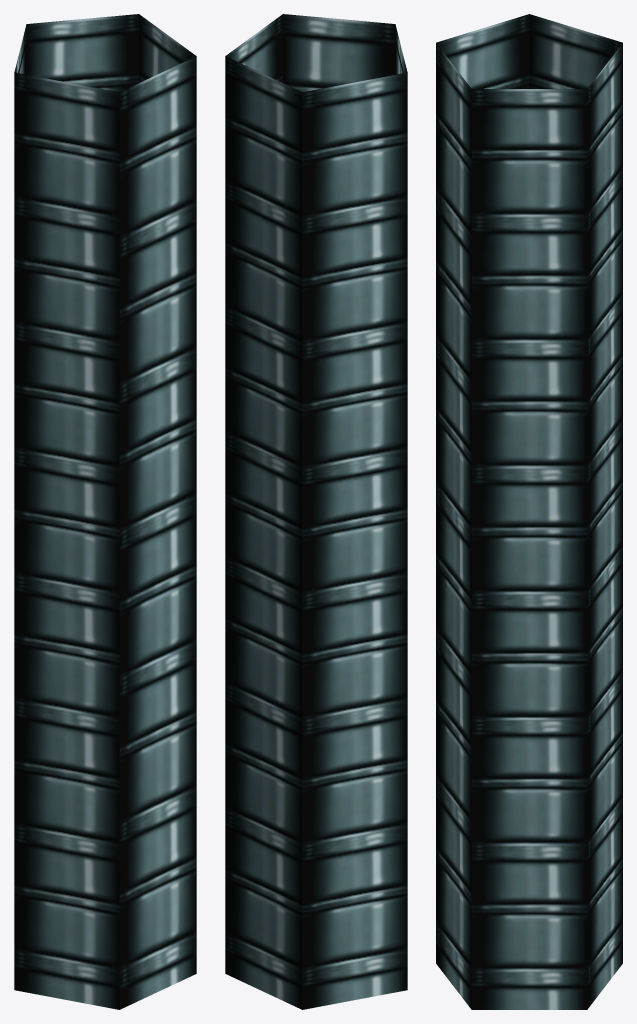
File: Stütze_GroßRohr_1440.glb
The picture shows the model from 3 angles, left to right: view 1: azimuth 30°, elevation 25°; view 2: azimuth 150°, elevation 25°; view 3: azimuth 270°, elevation 25°; orthographic projection.
Visible parts, largest first — view 1: pPlaneShape17, pPlaneShape13, pPlaneShape15, pPlaneShape14; view 2: pPlaneShape16, pPlaneShape15, pPlaneShape13, pPlaneShape14; view 3: pPlaneShape14, pPlaneShape13, pPlaneShape15, pPlaneShape16, pPlaneShape17.
Part boxes in pixels (box(x1,y1,x2,y2)): pPlaneShape17: box(14, 72, 119, 1009); pPlaneShape13: box(119, 56, 196, 1009); pPlaneShape15: box(26, 14, 138, 92); pPlaneShape14: box(139, 14, 196, 82); pPlaneShape16: box(302, 72, 407, 1009); pPlaneShape15: box(225, 56, 302, 1009); pPlaneShape13: box(283, 14, 395, 92); pPlaneShape14: box(225, 14, 282, 82); pPlaneShape14: box(471, 89, 587, 1009); pPlaneShape13: box(436, 43, 471, 1009); pPlaneShape15: box(587, 43, 622, 1009); pPlaneShape16: box(529, 14, 622, 88); pPlaneShape17: box(436, 14, 529, 88).
Size of the model in its own units: 1.07 by 6.1 by 1.12.
Materials: 5 (5 with a texture image).
